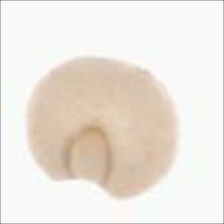L5: (61, 123, 115, 190)
L6: (24, 55, 178, 200)
